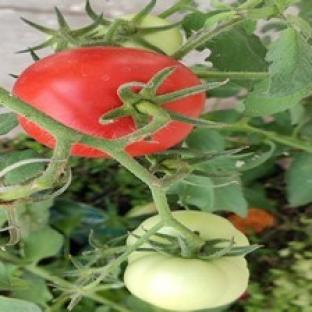Tomato: (13, 46, 200, 139), (124, 251, 249, 310), (173, 211, 249, 246), (122, 14, 183, 54)
